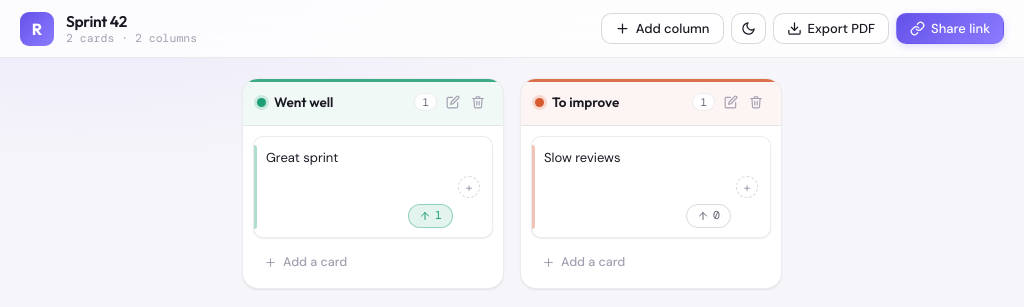
Test: Board › votes and reactions › sends a decrement when removing a vote instead of writing a stale count
The image size is (1024, 307).
Check: the text "Slow reviews" is shown, box [544, 149, 620, 166]
Click the button titled "Upvote": click(709, 216) [686, 204, 731, 228]
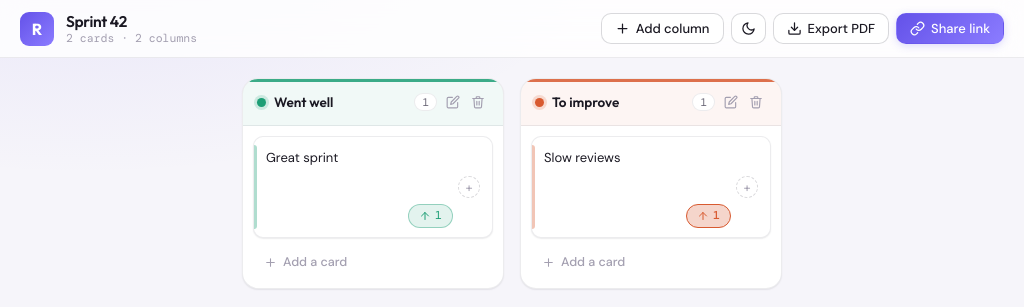
Check: the button titled "Remove vote" below "Slow reviews" is shown
Click the button titled "Remove vote" below "Slow reviews": click(709, 216) [686, 204, 731, 228]
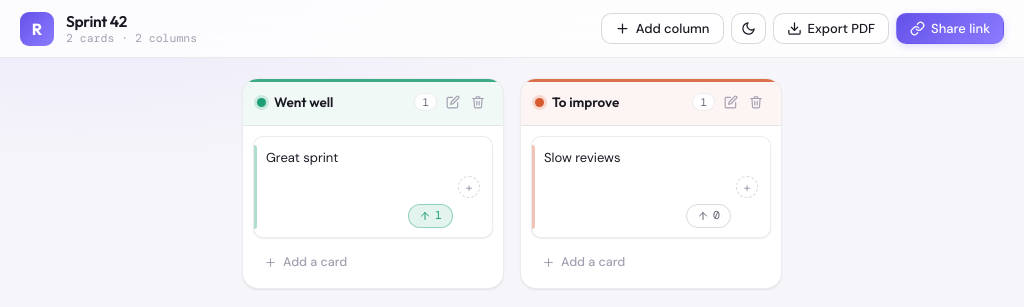
Check: the button titled "Upvote" reads "0", box [686, 204, 731, 228]
